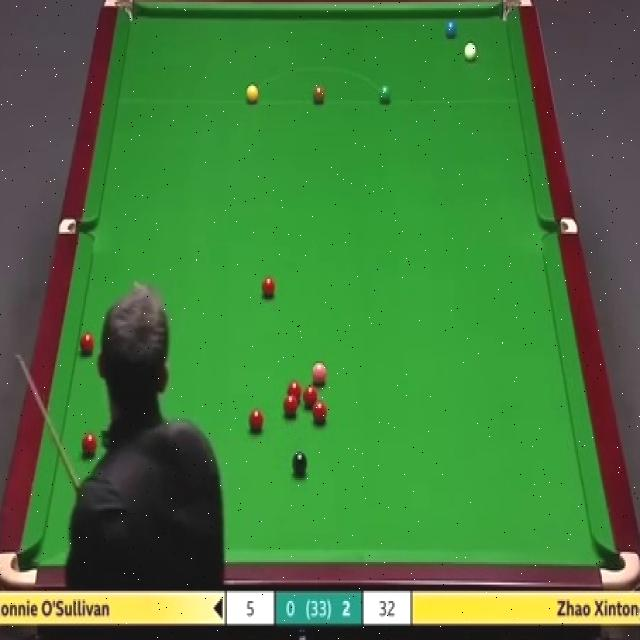black-ball: (290, 450, 308, 476)
blue-ball: (445, 19, 460, 37)
brown-ball: (313, 84, 326, 104)
green-ball: (378, 84, 392, 106)
pink-ball: (311, 360, 327, 386)
red-ball: (248, 407, 266, 434), (79, 330, 96, 355), (286, 379, 302, 404), (80, 432, 98, 454), (312, 399, 328, 423), (261, 276, 276, 300), (305, 382, 321, 404), (283, 395, 298, 416)
white-ball: (465, 42, 477, 64)
yellow-ball: (244, 84, 260, 105)
